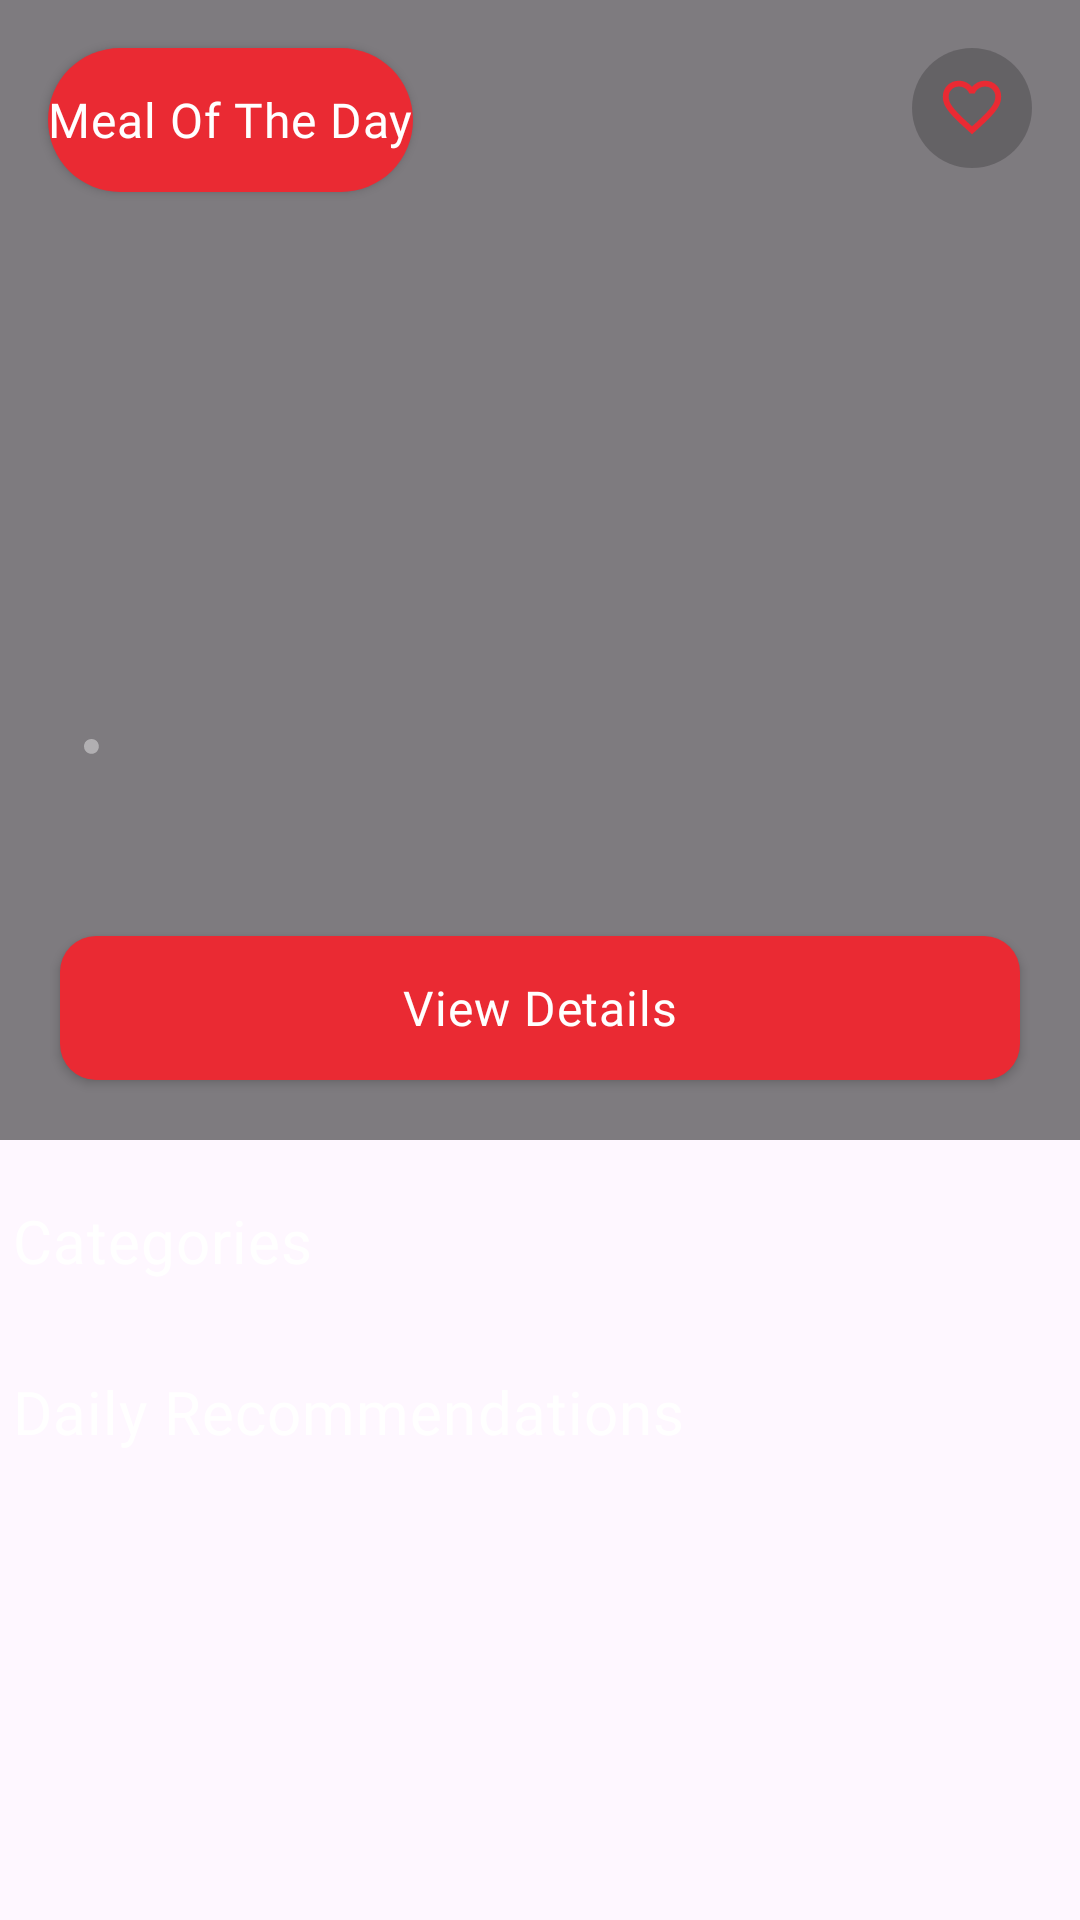

Where to tap for icons on this 1080 × 1920 app screen, as (x=x, y=y):
addfav: (x=972, y=108)
